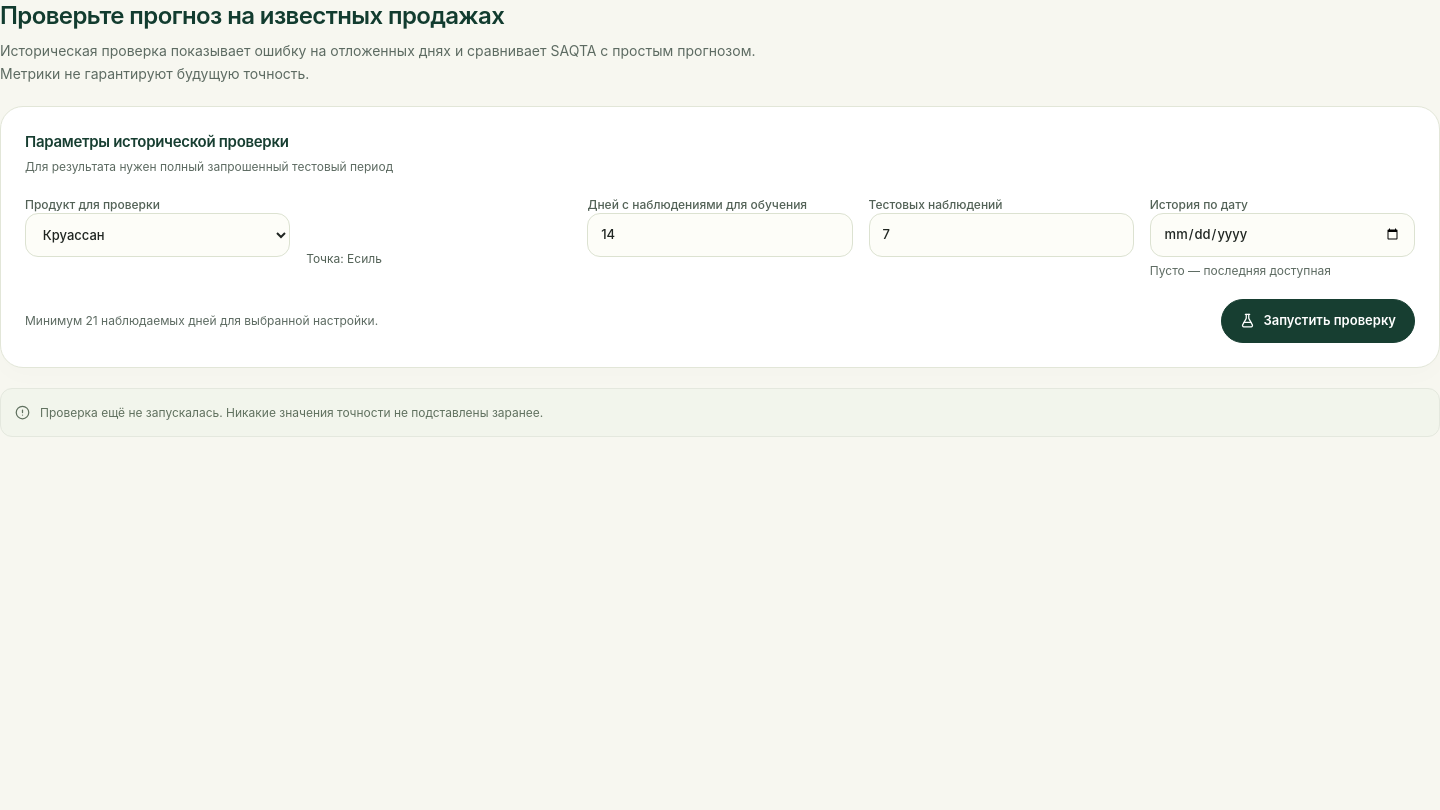
Test: historical backtest UI › requests selected history settings and labels synthetic metrics as unverified for a real bakery
Click the button "Запустить проверку" at (1318, 320), box [1222,298,1415,342]
(page scrolled)
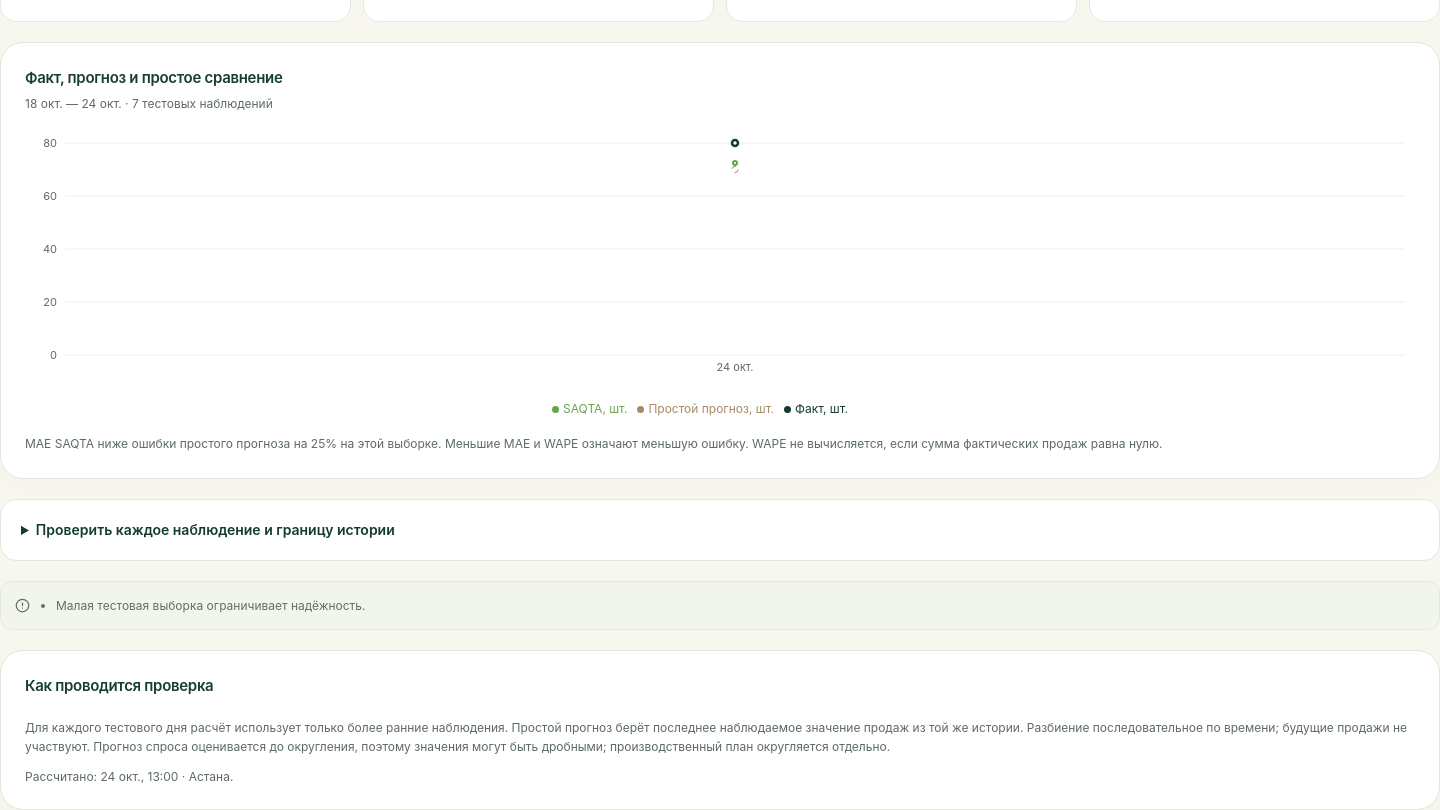
Check: the list item "Малая тестовая выборка ограничивает надёжность." is shown, box [56,596,366,615]
Check: the text "только более ранние наблюдения" is shown, box [25,720,1407,754]
